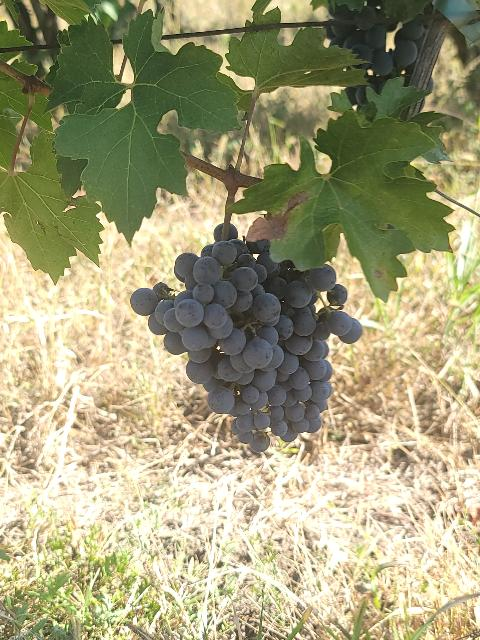grapes: (131, 226, 284, 445), (265, 261, 362, 441)
